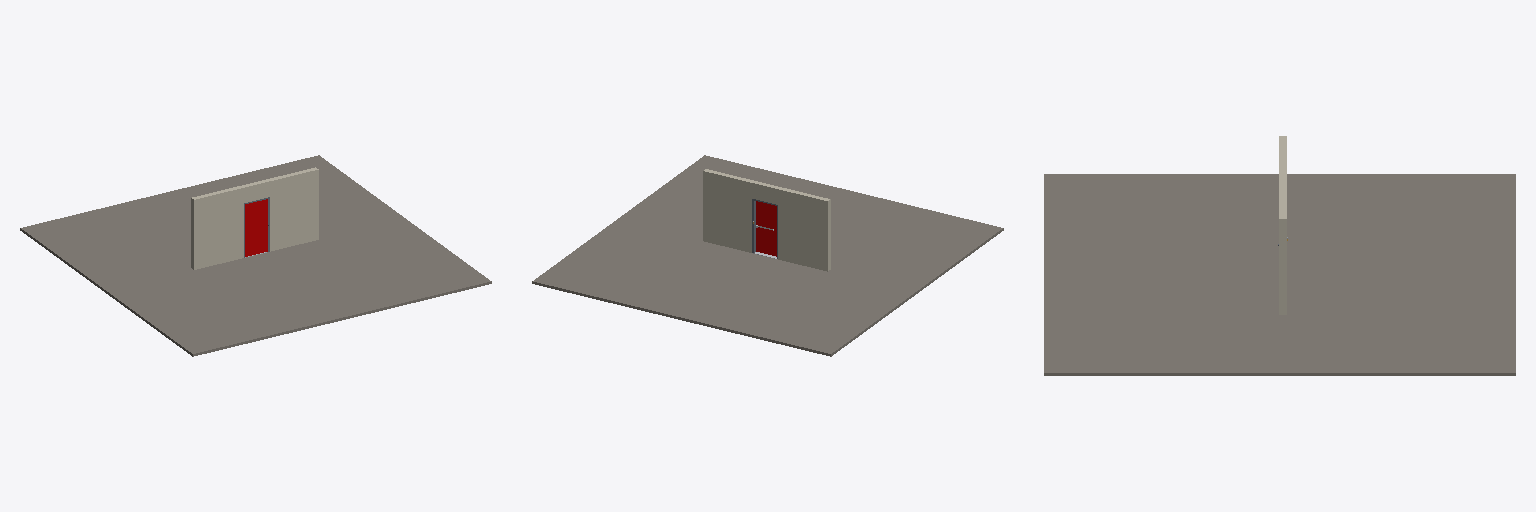
robot.urdf — db0789_swing_single_minimal:
<?xml version="1.0" ?>
<robot xmlns:doorbench="https://github.com/adamraudonis/DoorBench/schema/urdf-ext" name="db0789_swing_single_minimal">
  <link name="world_env">
    <visual name="floor_vis">
      <origin xyz="0 0 -0.05" rpy="0 0 0"/>
      <geometry>
        <box size="12 12 0.1"/>
      </geometry>
      <material name="mat_floor"/>
    </visual>
    <collision name="floor_col">
      <origin xyz="0 0 -0.05" rpy="0 0 0"/>
      <geometry>
        <box size="12 12 0.1"/>
      </geometry>
    </collision>
    <visual name="wall_left_vis">
      <origin xyz="-1.50525 0.071 1.35" rpy="0 0 0"/>
      <geometry>
        <box size="1.9895 0.2 2.7"/>
      </geometry>
      <material name="mat_wall"/>
    </visual>
    <collision name="wall_left_col">
      <origin xyz="-1.50525 0.071 1.35" rpy="0 0 0"/>
      <geometry>
        <box size="1.9895 0.2 2.7"/>
      </geometry>
    </collision>
    <visual name="wall_right_vis">
      <origin xyz="1.52025 0.071 1.35" rpy="0 0 0"/>
      <geometry>
        <box size="1.9595 0.2 2.7"/>
      </geometry>
      <material name="mat_wall"/>
    </visual>
    <collision name="wall_right_col">
      <origin xyz="1.52025 0.071 1.35" rpy="0 0 0"/>
      <geometry>
        <box size="1.9595 0.2 2.7"/>
      </geometry>
    </collision>
    <visual name="wall_header_vis">
      <origin xyz="0.015 0.071 2.4125" rpy="0 0 0"/>
      <geometry>
        <box size="1.051 0.2 0.575"/>
      </geometry>
      <material name="mat_wall"/>
    </visual>
    <collision name="wall_header_col">
      <origin xyz="0.015 0.071 2.4125" rpy="0 0 0"/>
      <geometry>
        <box size="1.051 0.2 0.575"/>
      </geometry>
    </collision>
    <visual name="leaf_staple_leg_n_vis">
      <origin xyz="0.4885 0.184 1.2285" rpy="-1.570796 0 0"/>
      <geometry>
        <box size="0.006 0.005 0.026"/>
      </geometry>
      <material name="mat_op_steel_galvanized"/>
    </visual>
    <collision name="leaf_staple_leg_n_col">
      <origin xyz="0.4885 0.184 1.2285" rpy="-1.570796 0 0"/>
      <geometry>
        <box size="0.006 0.005 0.026"/>
      </geometry>
    </collision>
    <visual name="leaf_staple_leg_p_vis">
      <origin xyz="0.4885 0.184 1.2035" rpy="-1.570796 0 0"/>
      <geometry>
        <box size="0.006 0.005 0.026"/>
      </geometry>
      <material name="mat_op_steel_galvanized"/>
    </visual>
    <collision name="leaf_staple_leg_p_col">
      <origin xyz="0.4885 0.184 1.2035" rpy="-1.570796 0 0"/>
      <geometry>
        <box size="0.006 0.005 0.026"/>
      </geometry>
    </collision>
    <visual name="leaf_staple_bridge_vis">
      <origin xyz="0.4885 0.1945 1.216" rpy="-1.570796 0 0"/>
      <geometry>
        <box size="0.006 0.03 0.005"/>
      </geometry>
      <material name="mat_op_steel_galvanized"/>
    </visual>
    <collision name="leaf_staple_bridge_col">
      <origin xyz="0.4885 0.1945 1.216" rpy="-1.570796 0 0"/>
      <geometry>
        <box size="0.006 0.03 0.005"/>
      </geometry>
    </collision>
    <visual name="leaf_staple_base_vis">
      <origin xyz="0.4885 0.172 1.216" rpy="-1.570796 0 0"/>
      <geometry>
        <box size="0.032 0.042 0.002"/>
      </geometry>
      <material name="mat_op_steel_galvanized"/>
    </visual>
    <visual name="leaf_padlock_shackle_vis">
      <origin xyz="0.4885 0.186 1.216" rpy="0 1.570796 0"/>
      <geometry>
        <cylinder radius="0.004" length="0.032"/>
      </geometry>
      <material name="mat_padlock"/>
    </visual>
    <visual name="leaf_padlock_leg_a_vis">
      <origin xyz="0.4725 0.186 1.204" rpy="3.141593 0 0"/>
      <geometry>
        <cylinder radius="0.004" length="0.024"/>
      </geometry>
      <material name="mat_padlock"/>
    </visual>
    <visual name="leaf_padlock_leg_b_vis">
      <origin xyz="0.5045 0.186 1.204" rpy="3.141593 0 0"/>
      <geometry>
        <cylinder radius="0.004" length="0.024"/>
      </geometry>
      <material name="mat_padlock"/>
    </visual>
    <visual name="leaf_padlock_body_vis">
      <origin xyz="0.4885 0.186 1.174" rpy="-1.570796 0 0"/>
      <geometry>
        <box size="0.044 0.036 0.016"/>
      </geometry>
      <material name="mat_padlock"/>
    </visual>
    <collision name="leaf_padlock_body_col">
      <origin xyz="0.4885 0.186 1.174" rpy="-1.570796 0 0"/>
      <geometry>
        <box size="0.044 0.036 0.016"/>
      </geometry>
    </collision>
    <visual name="jamb_hinge_vis">
      <origin xyz="-0.4855 0.071 1.0225" rpy="0 0 0"/>
      <geometry>
        <box size="0.05 0.2 2.045"/>
      </geometry>
      <material name="mat_frame"/>
    </visual>
    <collision name="jamb_hinge_col">
      <origin xyz="-0.4855 0.071 1.0225" rpy="0 0 0"/>
      <geometry>
        <box size="0.05 0.2 2.045"/>
      </geometry>
    </collision>
    <visual name="strike_1016_wall_n_vis">
      <origin xyz="0.5005 0.113 1.016" rpy="0 0 0"/>
      <geometry>
        <box size="0.08 0.116 0.04"/>
      </geometry>
      <material name="mat_frame"/>
    </visual>
    <collision name="strike_1016_wall_n_col">
      <origin xyz="0.5005 0.113 1.016" rpy="0 0 0"/>
      <geometry>
        <box size="0.08 0.116 0.04"/>
      </geometry>
    </collision>
    <visual name="strike_1016_wall_p_vis">
      <origin xyz="0.5005 0.025 1.016" rpy="0 0 0"/>
      <geometry>
        <box size="0.08 0.016 0.04"/>
      </geometry>
      <material name="mat_frame"/>
    </visual>
    <collision name="strike_1016_wall_p_col">
      <origin xyz="0.5005 0.025 1.016" rpy="0 0 0"/>
      <geometry>
        <box size="0.08 0.016 0.04"/>
      </geometry>
    </collision>
    <visual name="strike_1016_ramp_vis">
      <origin xyz="0.508781 -0.0044 1.016" rpy="0 0 0.294235"/>
      <geometry>
        <box size="0.08 0.068964 0.04"/>
      </geometry>
      <material name="mat_frame"/>
    </visual>
    <collision name="strike_1016_ramp_col">
      <origin xyz="0.508781 -0.0044 1.016" rpy="0 0 0.294235"/>
      <geometry>
        <box size="0.08 0.068964 0.04"/>
      </geometry>
    </collision>
    <visual name="strike_1016_back_vis">
      <origin xyz="0.512 0.044 1.016" rpy="0 0 0"/>
      <geometry>
        <box size="0.057 0.022 0.04"/>
      </geometry>
      <material name="mat_frame"/>
    </visual>
    <collision name="strike_1016_back_col">
      <origin xyz="0.512 0.044 1.016" rpy="0 0 0"/>
      <geometry>
        <box size="0.057 0.022 0.04"/>
      </geometry>
    </collision>
    <visual name="jamb_strike_0_vis">
      <origin xyz="0.5005 0.071 0.498" rpy="0 0 0"/>
      <geometry>
        <box size="0.08 0.2 0.996"/>
      </geometry>
      <material name="mat_frame"/>
    </visual>
    <collision name="jamb_strike_0_col">
      <origin xyz="0.5005 0.071 0.498" rpy="0 0 0"/>
      <geometry>
        <box size="0.08 0.2 0.996"/>
      </geometry>
    </collision>
    <visual name="jamb_strike_1_vis">
      <origin xyz="0.5005 0.071 1.5405" rpy="0 0 0"/>
      <geometry>
        <box size="0.08 0.2 1.009"/>
      </geometry>
      <material name="mat_frame"/>
    </visual>
    <collision name="jamb_strike_1_col">
      <origin xyz="0.5005 0.071 1.5405" rpy="0 0 0"/>
      <geometry>
        <box size="0.08 0.2 1.009"/>
      </geometry>
    </collision>
    <visual name="jamb_head_vis">
      <origin xyz="0.015 0.071 2.07" rpy="0 0 0"/>
      <geometry>
        <box size="1.051 0.2 0.05"/>
      </geometry>
      <material name="mat_frame"/>
    </visual>
    <collision name="jamb_head_col">
      <origin xyz="0.015 0.071 2.07" rpy="0 0 0"/>
      <geometry>
        <box size="1.051 0.2 0.05"/>
      </geometry>
    </collision>
    <visual name="head_stud_vis">
      <origin xyz="0.015 0.071 2.11" rpy="0 0 0"/>
      <geometry>
        <box size="1.051 0.2 0.03"/>
      </geometry>
      <material name="mat_wall"/>
    </visual>
    <collision name="head_stud_col">
      <origin xyz="0.015 0.071 2.11" rpy="0 0 0"/>
      <geometry>
        <box size="1.051 0.2 0.03"/>
      </geometry>
    </collision>
    <visual name="stop_hinge_vis">
      <origin xyz="-0.455 0.0385 1.0225" rpy="0 0 0"/>
      <geometry>
        <box size="0.011 0.032 2.045"/>
      </geometry>
      <material name="mat_frame"/>
    </visual>
    <collision name="stop_hinge_col">
      <origin xyz="-0.455 0.0385 1.0225" rpy="0 0 0"/>
      <geometry>
        <box size="0.011 0.032 2.045"/>
      </geometry>
    </collision>
    <visual name="stop_strike_vis">
      <origin xyz="0.455 0.0385 0.48425" rpy="0 0 0"/>
      <geometry>
        <box size="0.011 0.032 0.9685"/>
      </geometry>
      <material name="mat_frame"/>
    </visual>
    <collision name="stop_strike_col">
      <origin xyz="0.455 0.0385 0.48425" rpy="0 0 0"/>
      <geometry>
        <box size="0.011 0.032 0.9685"/>
      </geometry>
    </collision>
    <visual name="stop_strike_1_vis">
      <origin xyz="0.455 0.0385 1.55425" rpy="0 0 0"/>
      <geometry>
        <box size="0.011 0.032 0.9815"/>
      </geometry>
      <material name="mat_frame"/>
    </visual>
    <collision name="stop_strike_1_col">
      <origin xyz="0.455 0.0385 1.55425" rpy="0 0 0"/>
      <geometry>
        <box size="0.011 0.032 0.9815"/>
      </geometry>
    </collision>
    <visual name="stop_head_vis">
      <origin xyz="0 0.0385 2.0395" rpy="0 0 0"/>
      <geometry>
        <box size="0.921 0.032 0.011"/>
      </geometry>
      <material name="mat_frame"/>
    </visual>
    <collision name="stop_head_col">
      <origin xyz="0 0.0385 2.0395" rpy="0 0 0"/>
      <geometry>
        <box size="0.921 0.032 0.011"/>
      </geometry>
    </collision>
    <visual name="threshold_vis">
      <origin xyz="0 0.071 0.0065" rpy="0 0 0"/>
      <geometry>
        <box size="1.021 0.2 0.013"/>
      </geometry>
      <material name="mat_threshold"/>
    </visual>
    <collision name="threshold_col">
      <origin xyz="0 0.071 0.0065" rpy="0 0 0"/>
      <geometry>
        <box size="1.021 0.2 0.013"/>
      </geometry>
    </collision>
  </link>
  <link name="leaf">
    <inertial>
      <origin xyz="0.46557 0.030839 1.028449" rpy="0 0 0"/>
      <mass value="62.592046"/>
      <inertia ixx="20.479293373" ixy="-0.027097491" ixz="0.006677577" iyy="24.896919758" iyz="0.001433237" izz="4.448690207"/>
    </inertial>
    <visual name="leaf_slab_vis">
      <origin xyz="0.457 0.029 1.029" rpy="0 0 0"/>
      <geometry>
        <box size="0.914 0.044 2.024"/>
      </geometry>
      <material name="mat_leaf"/>
    </visual>
    <collision name="leaf_slab_col">
      <origin xyz="0.457 0.029 1.029" rpy="0 0 0"/>
      <geometry>
        <box size="0.914 0.044 2.024"/>
      </geometry>
    </collision>
    <visual name="leaf_exit_device_rail_vis">
      <origin xyz="0.51695 0.057 1.016" rpy="0 0 0"/>
      <geometry>
        <box size="0.6341 0.012 0.05"/>
      </geometry>
      <material name="mat_op_stainless"/>
    </visual>
    <collision name="leaf_exit_device_rail_col">
      <origin xyz="0.51695 0.057 1.016" rpy="0 0 0"/>
      <geometry>
        <box size="0.6341 0.012 0.05"/>
      </geometry>
    </collision>
    <visual name="leaf_exit_device_rail_end_n_vis">
      <origin xyz="0.2099 0.0835 1.016" rpy="0 0 0"/>
      <geometry>
        <box size="0.02 0.065 0.05"/>
      </geometry>
      <material name="mat_op_stainless"/>
    </visual>
    <collision name="leaf_exit_device_rail_end_n_col">
      <origin xyz="0.2099 0.0835 1.016" rpy="0 0 0"/>
      <geometry>
        <box size="0.02 0.065 0.05"/>
      </geometry>
    </collision>
    <visual name="leaf_exit_device_rail_end_p_vis">
      <origin xyz="0.824 0.0835 1.016" rpy="0 0 0"/>
      <geometry>
        <box size="0.02 0.065 0.05"/>
      </geometry>
      <material name="mat_op_stainless"/>
    </visual>
    <collision name="leaf_exit_device_rail_end_p_col">
      <origin xyz="0.824 0.0835 1.016" rpy="0 0 0"/>
      <geometry>
        <box size="0.02 0.065 0.05"/>
      </geometry>
    </collision>
    <visual name="leaf_exit_device_case_vis">
      <origin xyz="0.868 0.085125 1.016" rpy="0 0 0"/>
      <geometry>
        <box size="0.068 0.06825 0.075"/>
      </geometry>
      <material name="mat_op_stainless"/>
    </visual>
    <collision name="leaf_exit_device_case_col">
      <origin xyz="0.868 0.085125 1.016" rpy="0 0 0"/>
      <geometry>
        <box size="0.068 0.06825 0.075"/>
      </geometry>
    </collision>
  </link>
  <link name="leaf_exit_device">
    <inertial>
      <origin xyz="0 0.05 0" rpy="0 0 0"/>
      <mass value="2.381805"/>
      <inertia ixx="0.000580565" ixy="0" ixz="0" iyy="0.069049839" iyz="0" izz="0.068826545"/>
    </inertial>
    <collision name="leaf_exit_device_pad_col_col">
      <origin xyz="0 0.05 0" rpy="0 0 0"/>
      <geometry>
        <box size="0.5881 0.03 0.045"/>
      </geometry>
    </collision>
  </link>
  <link name="leaf_latch_bolt">
    <inertial>
      <origin xyz="-0.0055 0 0" rpy="0 0 0"/>
      <mass value="0.102826"/>
      <inertia ixx="0.000004365" ixy="0" ixz="0" iyy="0.000018287" iyz="0" izz="0.000018287"/>
    </inertial>
    <visual name="leaf_latch_bolt_capsule_vis">
      <origin xyz="-0.0055 0 0" rpy="0 1.570796 0"/>
      <geometry>
        <cylinder radius="0.0095" length="0.03"/>
      </geometry>
      <material name="mat_bolt"/>
    </visual>
    <collision name="leaf_latch_bolt_capsule_col">
      <origin xyz="-0.0055 0 0" rpy="0 1.570796 0"/>
      <geometry>
        <cylinder radius="0.0095" length="0.03"/>
      </geometry>
    </collision>
  </link>
  <link name="leaf_hasp">
    <inertial>
      <origin xyz="0.0545 0.0015 0" rpy="0 0 0"/>
      <mass value="0.089271"/>
      <inertia ixx="0.00000918" ixy="0" ixz="0" iyy="0.000097499" iyz="0" izz="0.000088453"/>
    </inertial>
    <visual name="leaf_hasp_strap_vis">
      <origin xyz="0.0545 0.0015 0" rpy="-1.570796 0 0"/>
      <geometry>
        <box size="0.109 0.035 0.003"/>
      </geometry>
      <material name="mat_op_steel_galvanized"/>
    </visual>
    <collision name="leaf_hasp_strap_col">
      <origin xyz="0.0545 0.0015 0" rpy="-1.570796 0 0"/>
      <geometry>
        <box size="0.109 0.035 0.003"/>
      </geometry>
    </collision>
  </link>
  <joint name="leaf_hinge" type="revolute">
    <origin xyz="-0.4575 -0.029 0" rpy="0 0 0"/>
    <parent link="world_env"/>
    <child link="leaf"/>
    <axis xyz="0 0 -1"/>
    <limit lower="0" upper="0.0015" effort="2000" velocity="10"/>
    <dynamics damping="0.30611" friction="3.282966"/>
    <doorbench:closer damping_closing="0" damping_opening="0" backcheck_angle="0" backcheck_damping="0"/>
    <doorbench:note text="Padlocked hasp: leaf effectively fixed (2 mm rattle)"/>
  </joint>
  <joint name="leaf_exit_device_slide" type="prismatic">
    <origin xyz="0.51695 0.051 1.016" rpy="0 0 0"/>
    <parent link="leaf"/>
    <child link="leaf_exit_device"/>
    <axis xyz="0 -1 0"/>
    <limit lower="0" upper="0.016" effort="5000" velocity="10"/>
    <dynamics damping="153.575154" friction="0.5"/>
    <doorbench:spring stiffness="1200" springref="-0.015" note="tau = -stiffness*(q - springref); not native URDF"/>
  </joint>
  <joint name="leaf_latch_bolt_slide" type="prismatic">
    <origin xyz="0.914 0.073 1.016" rpy="0 0 0"/>
    <parent link="leaf"/>
    <child link="leaf_latch_bolt"/>
    <axis xyz="-1 0 0"/>
    <limit lower="0" upper="0.019" effort="5000" velocity="10"/>
    <dynamics damping="2" friction="0.3"/>
    <doorbench:spring stiffness="800" springref="-0.01" note="tau = -stiffness*(q - springref); not native URDF"/>
    <mimic joint="leaf_exit_device_slide" multiplier="1.357143" offset="0"/>
    <doorbench:coupling one_sided="true" note="MJCF uses a one-sided tendon (bolt may retract further, e.g. riding over the strike lip); mimic is bilateral"/>
  </joint>
  <joint name="leaf_hasp_hinge" type="revolute">
    <origin xyz="0.859 0.204 1.216" rpy="0 0 0"/>
    <parent link="leaf"/>
    <child link="leaf_hasp"/>
    <axis xyz="0 0 1"/>
    <limit lower="0" upper="0.0015" effort="2000" velocity="10"/>
    <dynamics damping="0.02" friction="0.05"/>
  </joint>
  <material name="mat_bolt">
    <color rgba="0.75 0.76 0.77 1"/>
  </material>
  <material name="mat_floor">
    <color rgba="0.55 0.53 0.5 1"/>
  </material>
  <material name="mat_frame">
    <color rgba="0.45 0.48 0.52 1"/>
  </material>
  <material name="mat_leaf">
    <color rgba="0.8 0.05 0.05 1"/>
  </material>
  <material name="mat_op_stainless">
    <color rgba="0.75 0.76 0.77 1"/>
  </material>
  <material name="mat_op_steel_galvanized">
    <color rgba="0.65 0.66 0.68 1"/>
  </material>
  <material name="mat_padlock">
    <color rgba="0.85 0.66 0.3 1"/>
  </material>
  <material name="mat_threshold">
    <color rgba="0.8 0.81 0.83 1"/>
  </material>
  <material name="mat_wall">
    <color rgba="0.78 0.76 0.7 1"/>
  </material>
</robot>

--- Render facts (derived) ---
The picture shows the robot from 3 angles, left to right: view 1: azimuth 30°, elevation 25°; view 2: azimuth 150°, elevation 25°; view 3: azimuth 270°, elevation 25°; orthographic projection.
Robot: db0789_swing_single_minimal — 5 links, 4 joints (2 revolute, 2 prismatic); root link world_env; default pose: every joint at zero.
Links seen in each view (by area): view 1: world_env, leaf; view 2: world_env, leaf; view 3: world_env.
Link boxes in pixels (x1,y1,x2,y2): world_env: (20,155,491,356); leaf: (245,199,267,256); world_env: (532,155,1003,356); leaf: (756,201,776,256); world_env: (1044,136,1515,375).
Size in the robot's own frame: 12 by 12 by 2.8 metres.
Geometry: primitives only (box / cylinder / sphere), no mesh files.
